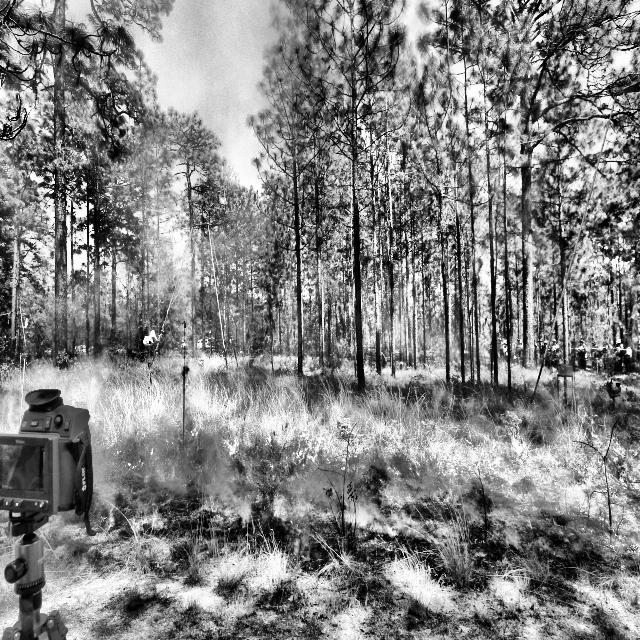fire: (80, 342, 640, 601)
